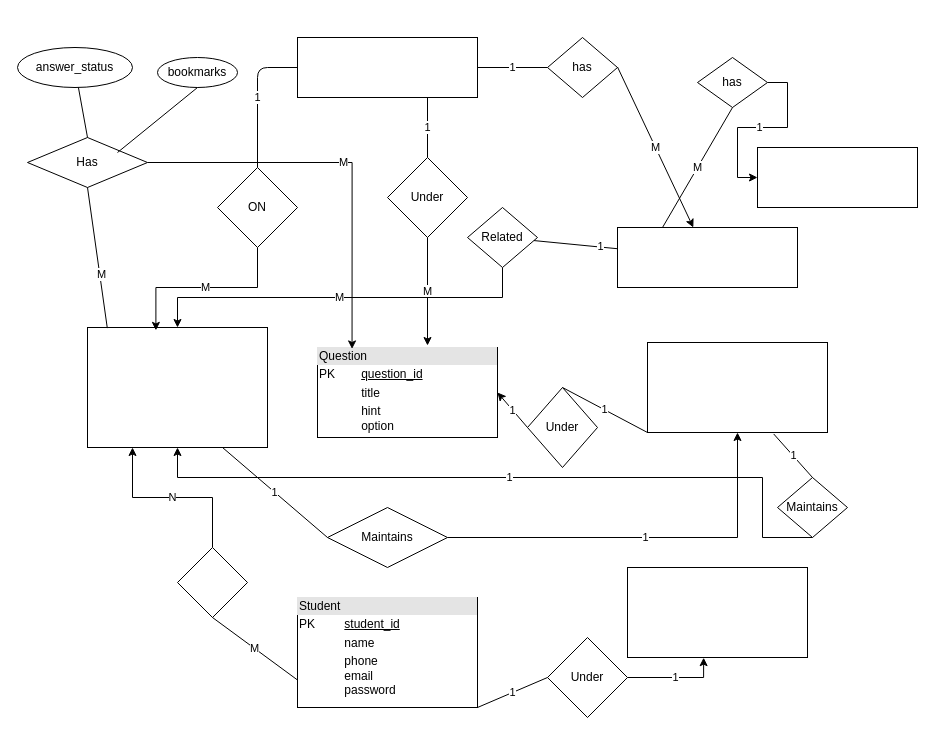
The diagram is 935 pixels wide and 735 high, and some of its shapes have lost their labels. The shapes that lost their labels are listed below. From the top down, each one's centre as x and y in pixels, then its label:
[387,67]: Topic PK topic_id title
[837,177]: Paper PK paper_id title
[707,257]: Subject PK subject_id title
[177,387]: Exam PK exam_id date exam_status totalmarks percentage exam_status
[737,387]: question_standard PK question_standard_id title
[212,582]: Participate
[717,612]: StudentCategory PK student category_id title
